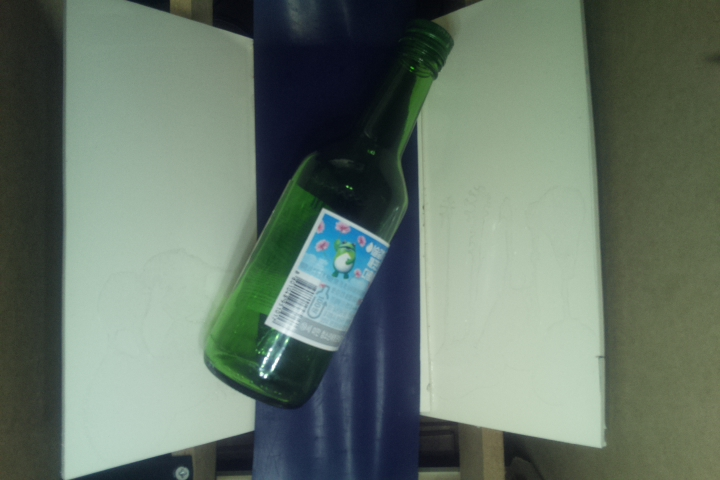soju: (196, 17, 455, 413)
